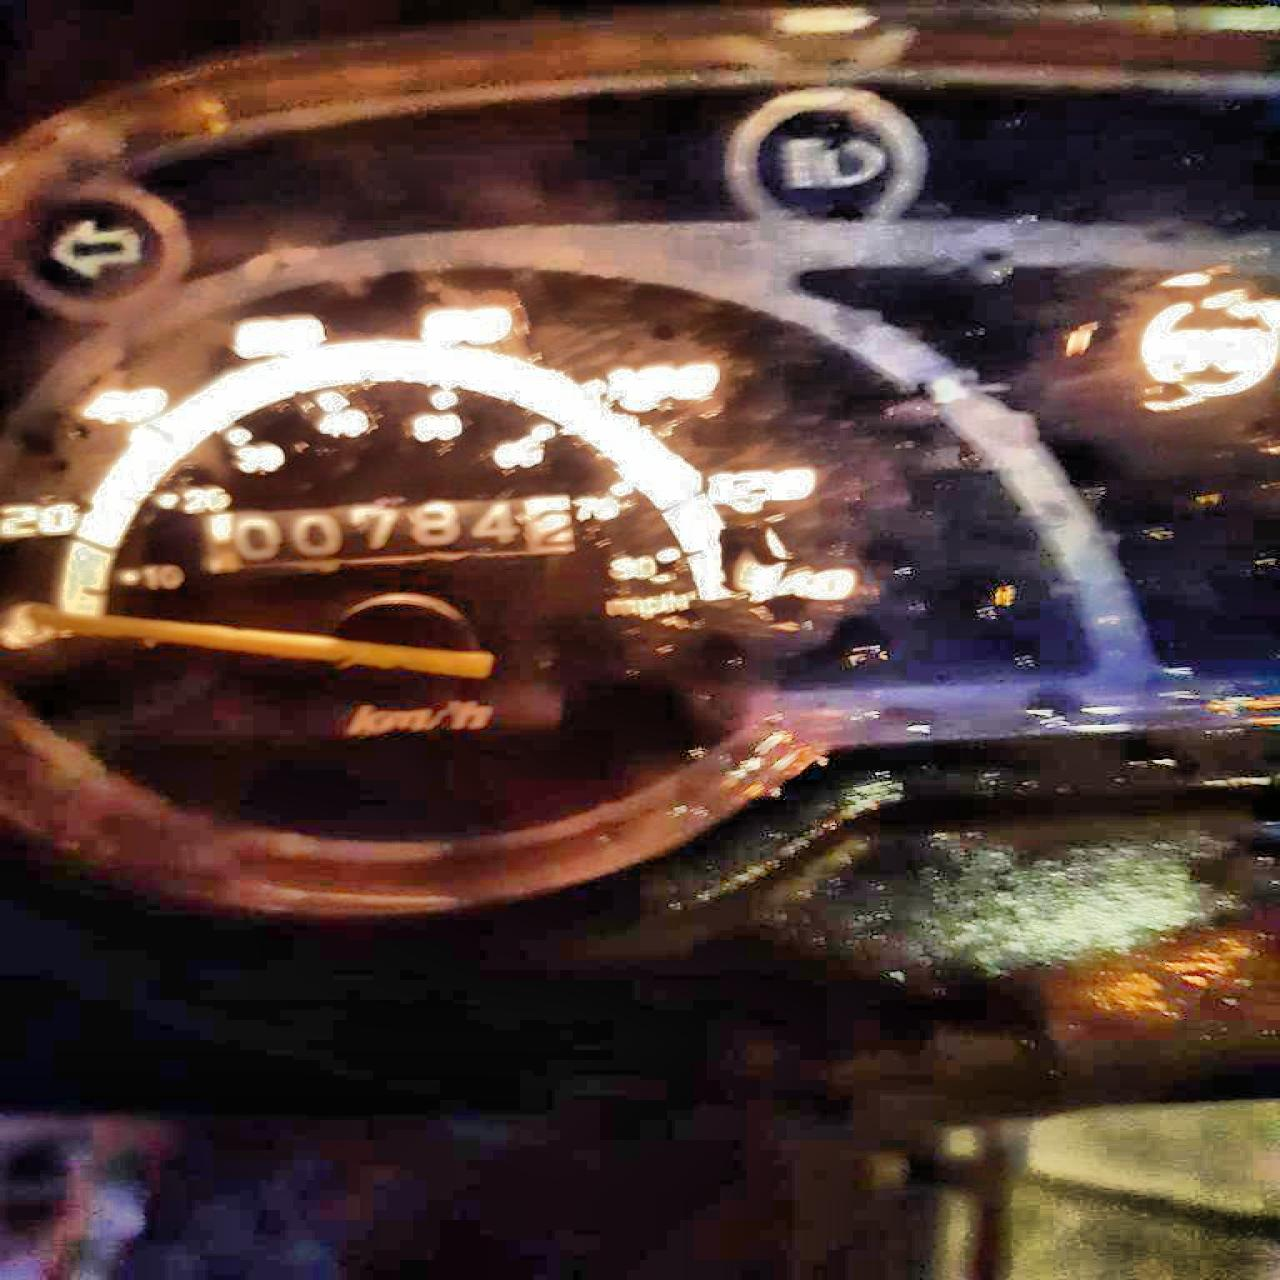0: (290, 511, 340, 558), (230, 515, 280, 560)
2: (531, 508, 572, 546)
4: (469, 497, 518, 545)
7: (343, 505, 396, 549)
8: (406, 501, 459, 545)
odometer: (193, 488, 584, 574)
